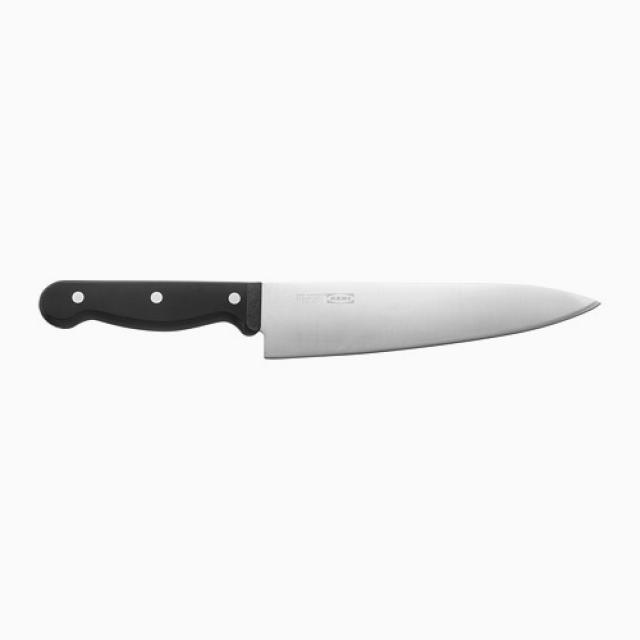Pisau: (12, 260, 614, 386)
